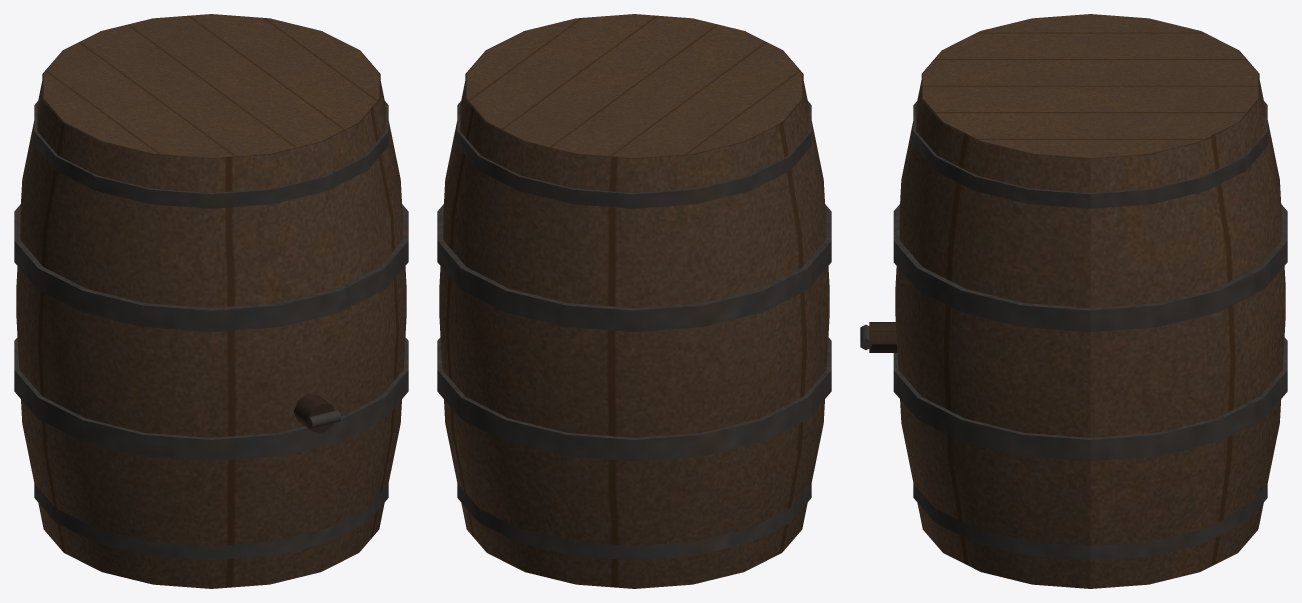
Rendered from keg.glb.
The picture shows the model from 3 angles, left to right: view 1: azimuth 30°, elevation 25°; view 2: azimuth 150°, elevation 25°; view 3: azimuth 270°, elevation 25°; orthographic projection.
Visible parts, largest first — view 1: keg; view 2: keg; view 3: keg.
Boxes of the visible parts, <box> form: keg: <box>14,14,408,588</box>; keg: <box>437,14,831,588</box>; keg: <box>860,14,1287,588</box>.
Bounding box in the file's own units: 0.6059 × 0.72 × 0.647.
1 material, 1 textured.
